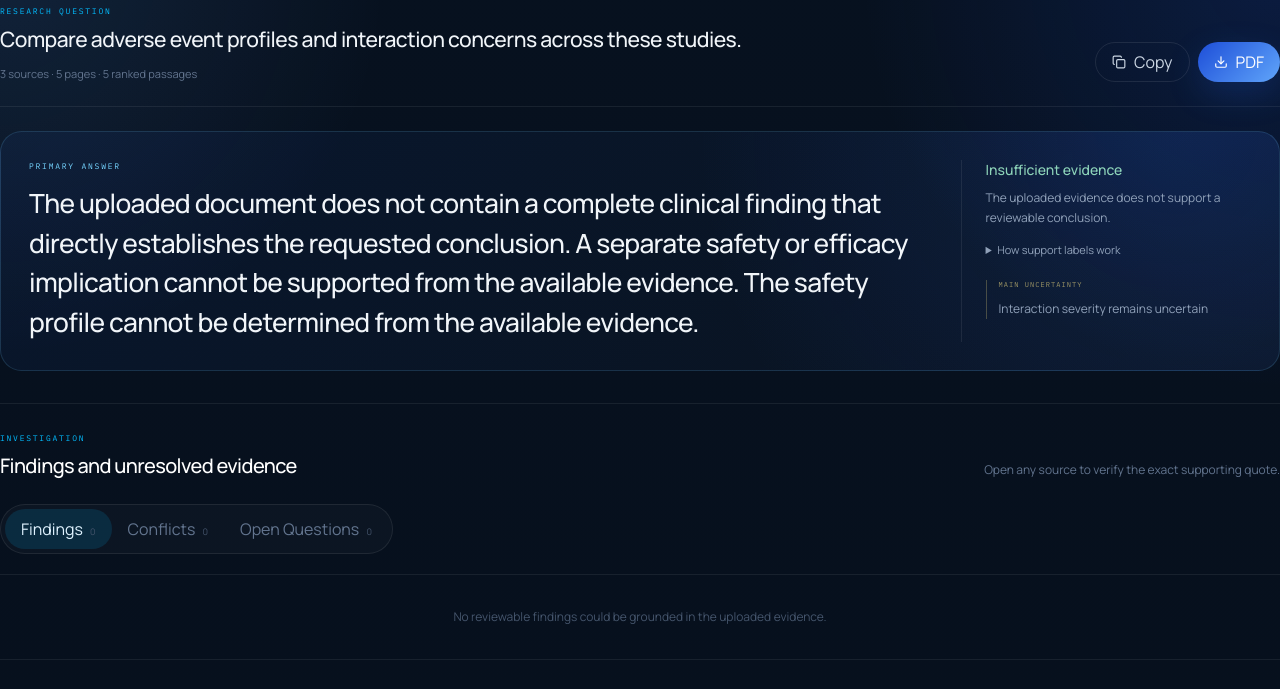
Test: interactive report › keeps the investigation architecture and supporting-evidence section visible when categories are empty
Expected: the tab "Findings 0" is shown, [5,510,112,550]
Expected: the tab "Open Questions 0" is shown, [224,510,388,550]
Click the tab "Conflicts 0" at (168,530), box [112,510,224,550]
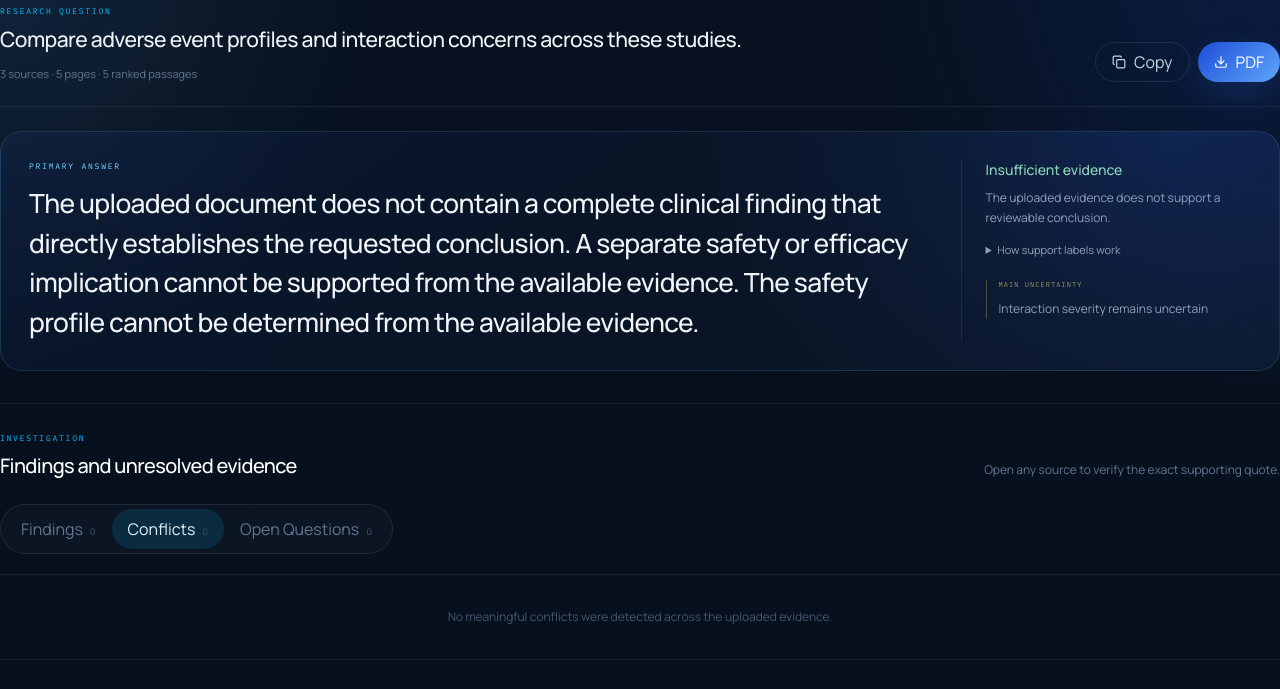
Now the text "No meaningful conflicts were detected across the uploaded evidence." is shown, box [0,574,1279,660]
Click the tab "Open Questions 0" at (306,530), box [224,510,388,550]
(page scrolled)
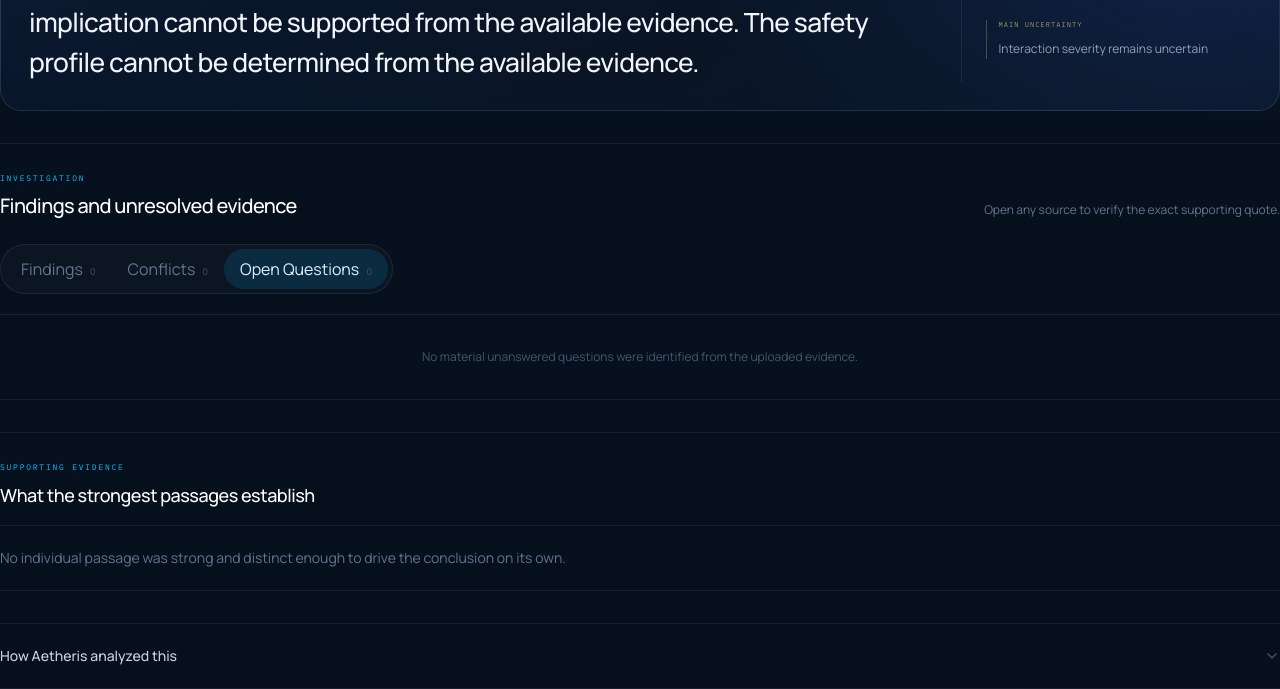
Expected: the heading "What the strongest passages establish" is shown, [0,484,315,508]
Now the text "No material unanswered questions were identified from the uploaded evidence." is shown, box [0,314,1279,400]
